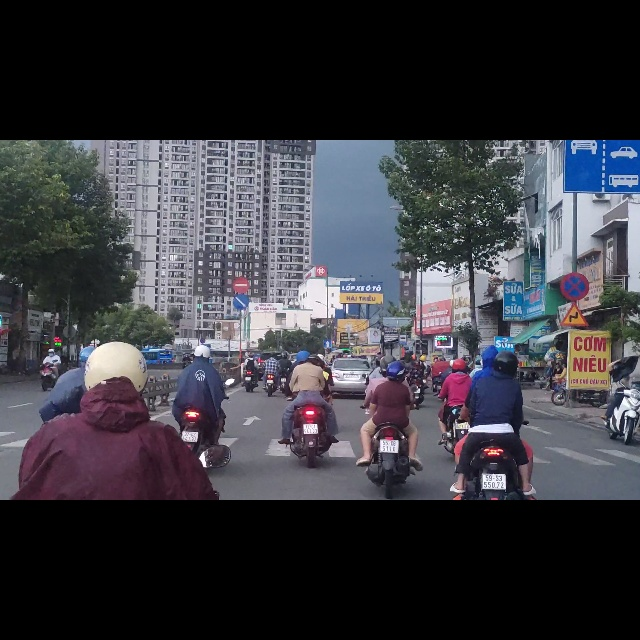bien_chi_dan: (562, 1, 640, 95), (561, 234, 590, 287), (561, 289, 589, 334), (233, 275, 249, 302), (233, 245, 249, 271), (399, 345, 407, 364), (323, 354, 332, 370)
